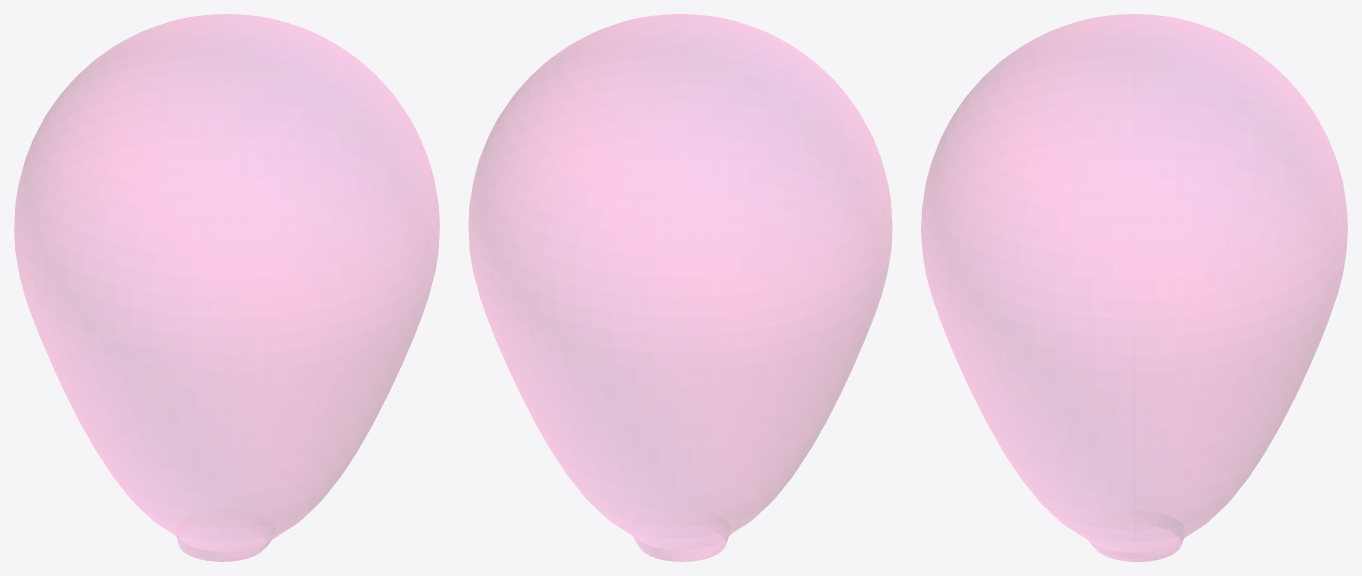
Rendered from balloon3.glb.
The picture shows the model from 3 angles, left to right: view 1: azimuth 30°, elevation 25°; view 2: azimuth 150°, elevation 25°; view 3: azimuth 270°, elevation 25°; orthographic projection.
Visible parts, largest first — view 1: Sphere.001; view 2: Sphere.001; view 3: Sphere.001.
Part boxes in pixels (x1,y1,x2,y2): Sphere.001: [14, 14, 439, 561]; Sphere.001: [468, 14, 892, 561]; Sphere.001: [921, 14, 1347, 561].
Bounding box in the file's own units: 1.97 × 2.64 × 1.97.
